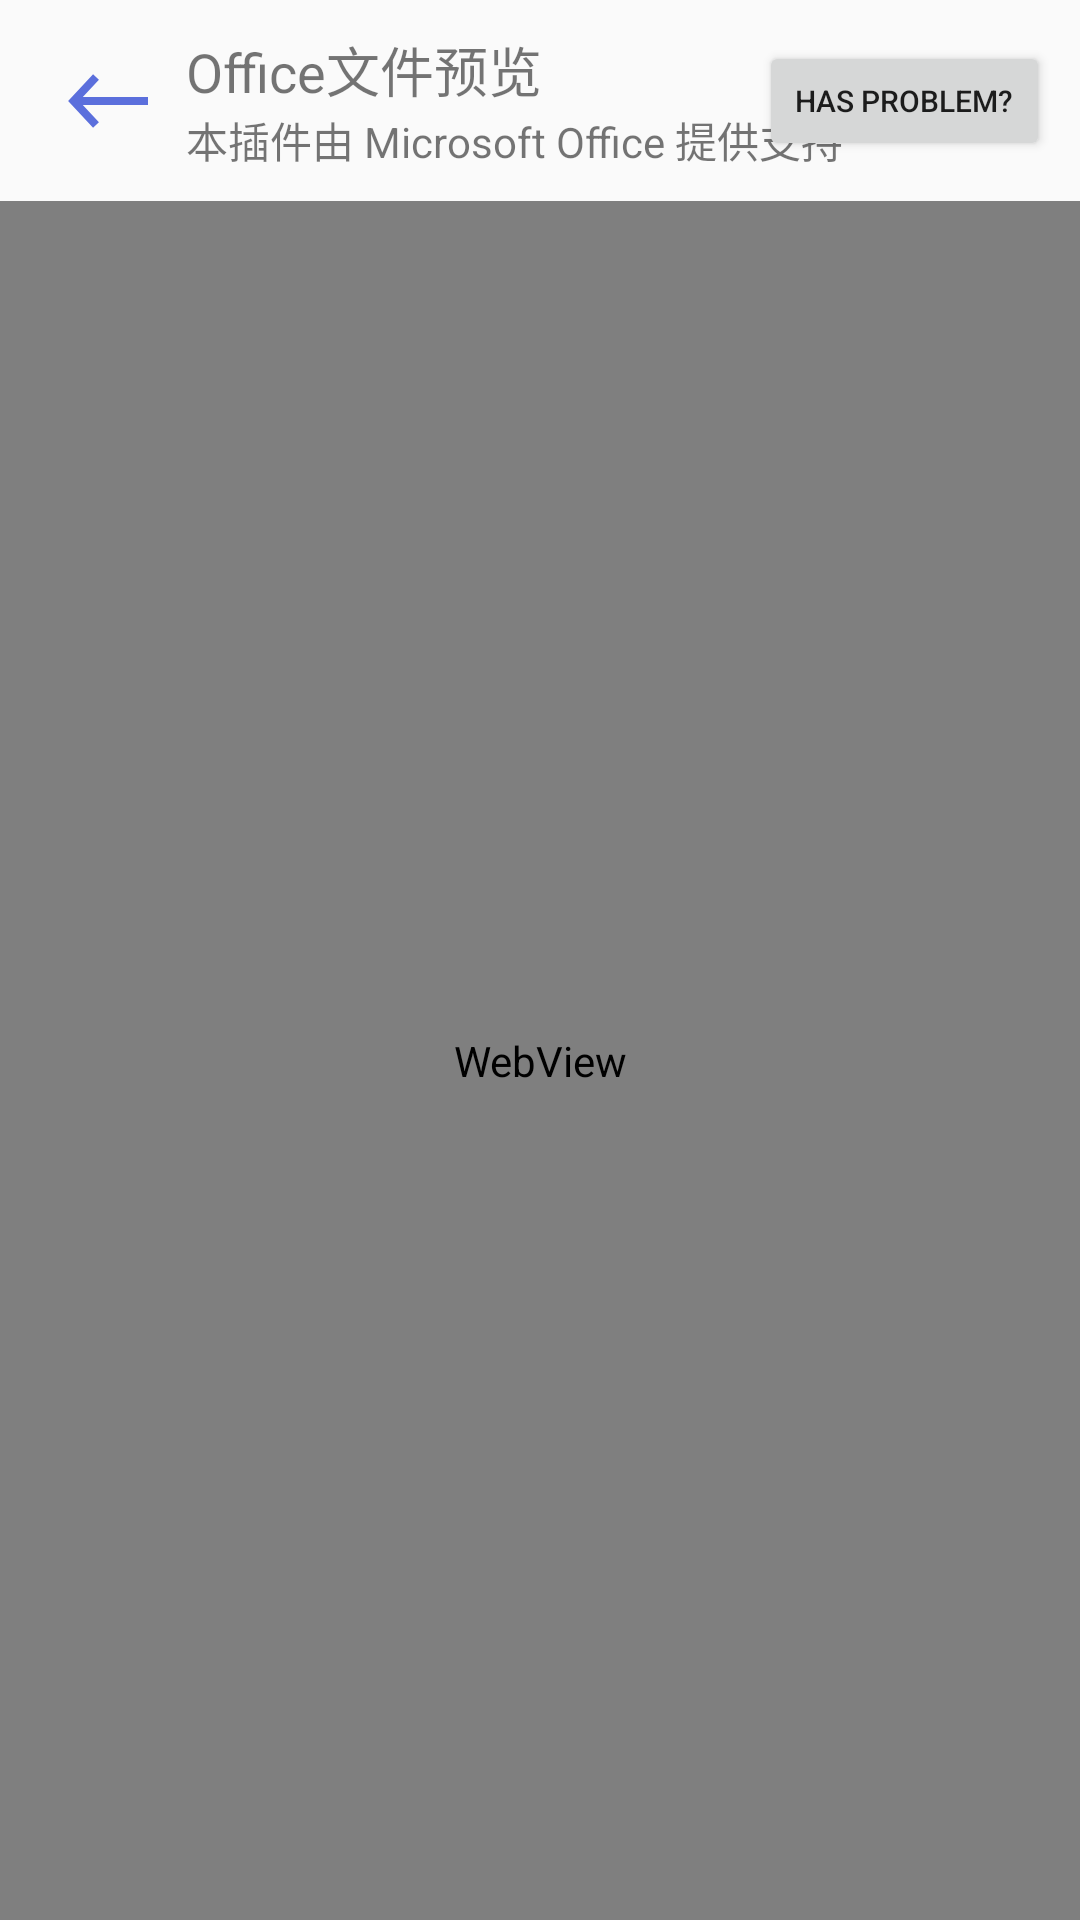

Screen size 1080*1920. Icon name, then its box in pixels as (x1, y1, x2, y2):
back: (68, 74, 148, 128)
